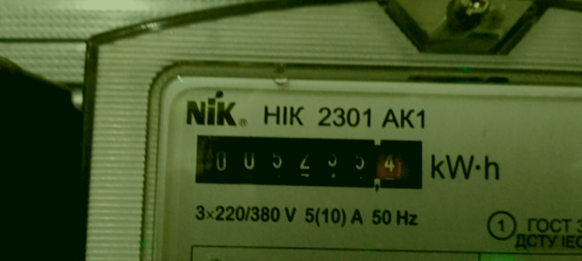0: (213, 146, 229, 173), (242, 145, 256, 170)
2: (297, 144, 311, 169)
3: (325, 142, 339, 168)
4: (382, 147, 397, 173)
5: (352, 144, 367, 171), (269, 144, 284, 170)
screen: (186, 125, 434, 196)
